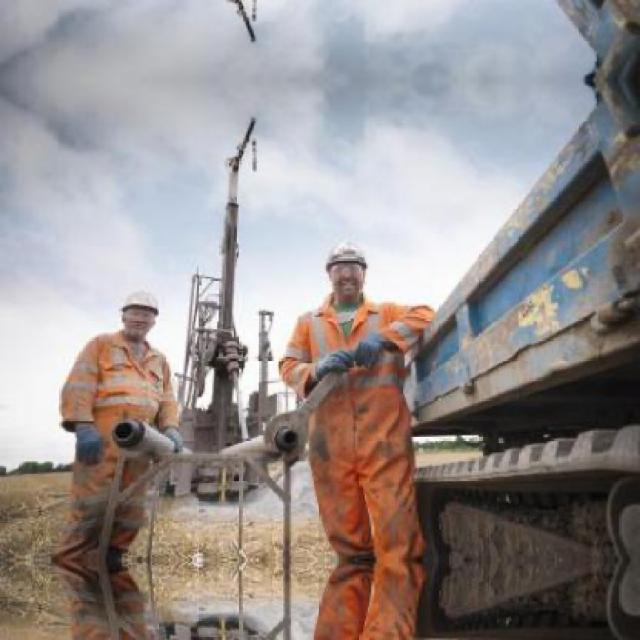helmet: (320, 232, 374, 306), (114, 284, 166, 338)
